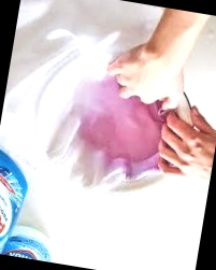wine: (75, 72, 172, 165)
